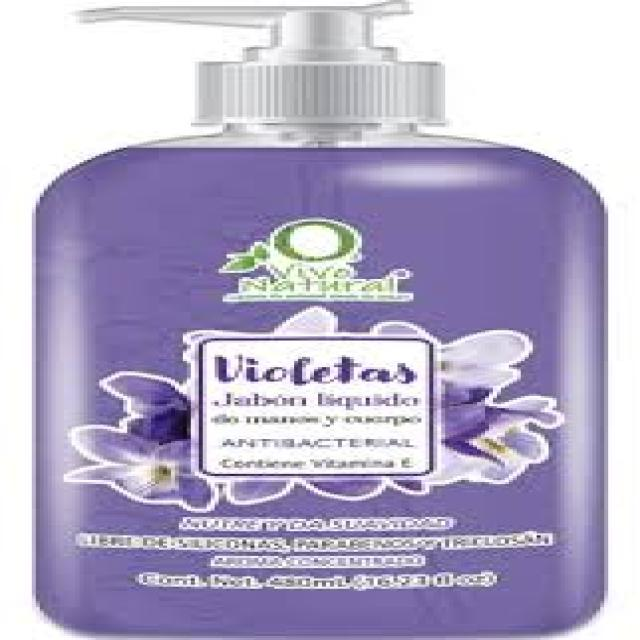Botella: (36, 0, 596, 638)
